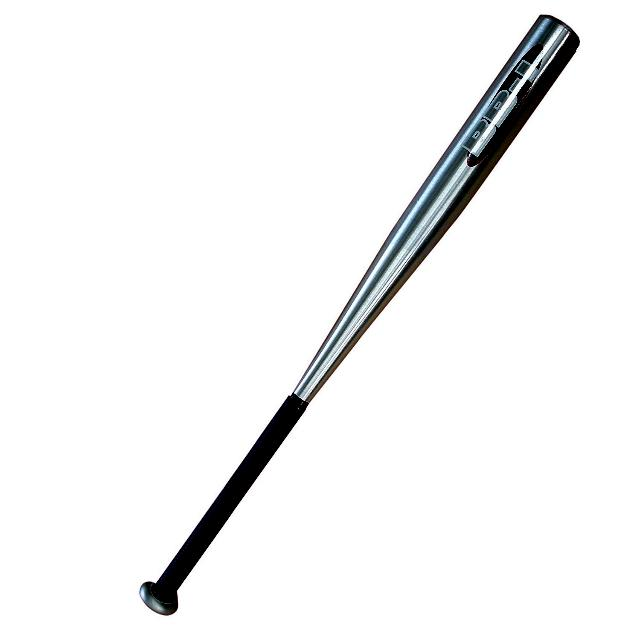baseball bat: (164, 32, 580, 620)
